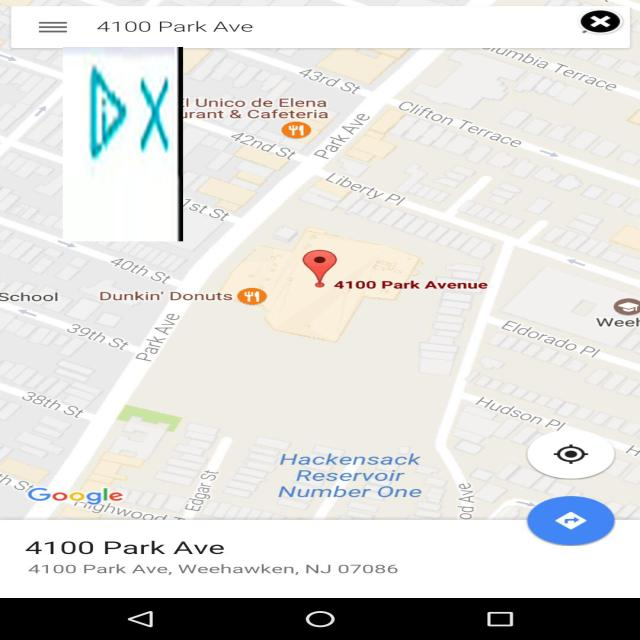sneaking: (63, 47, 183, 241)
